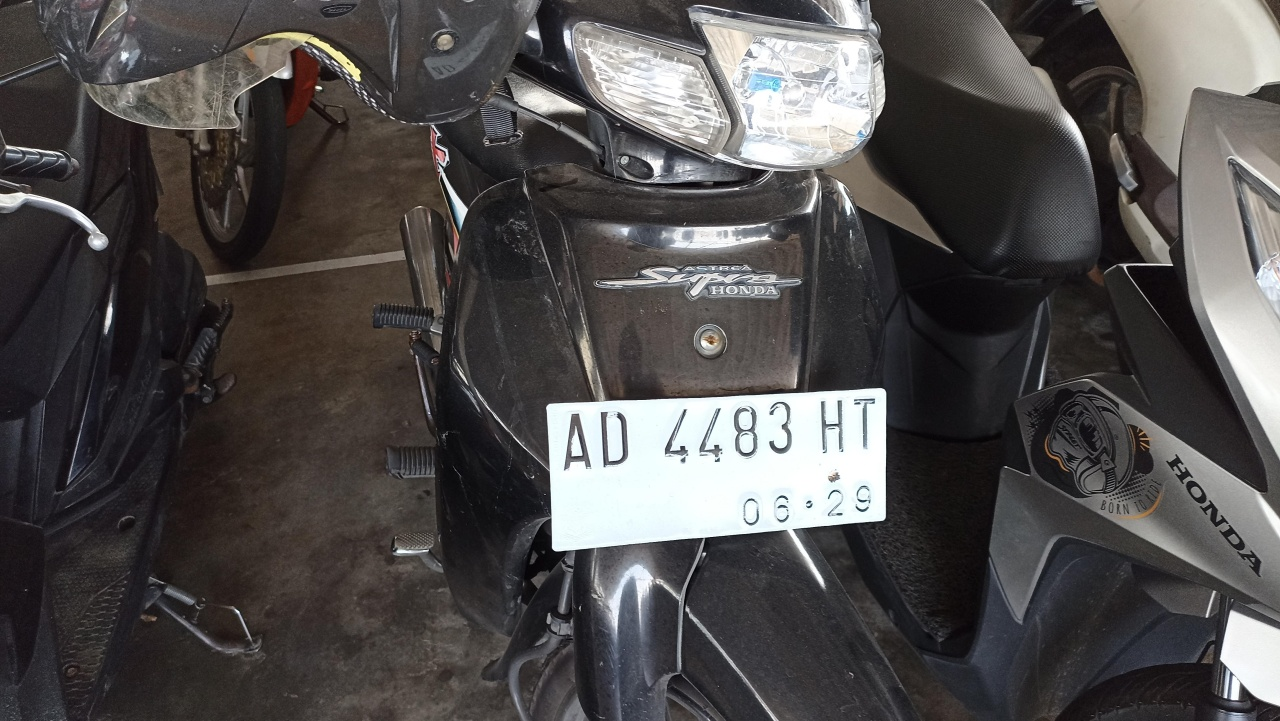plate: (548, 388, 886, 553)
